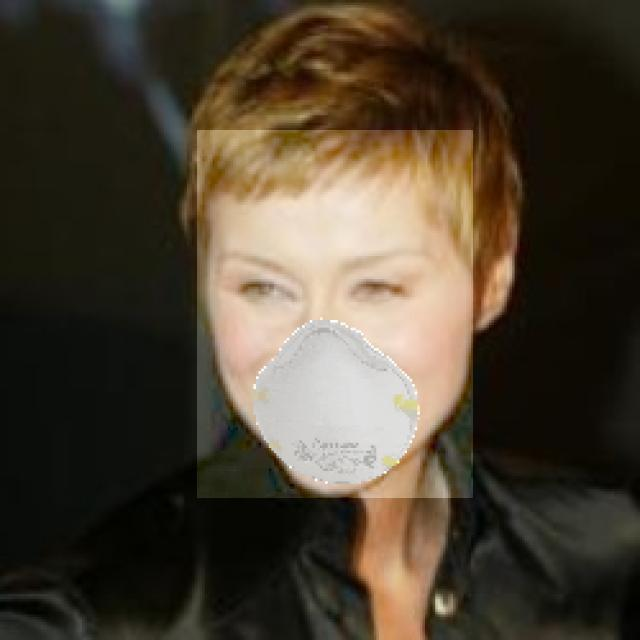n95: (197, 130, 473, 498)
